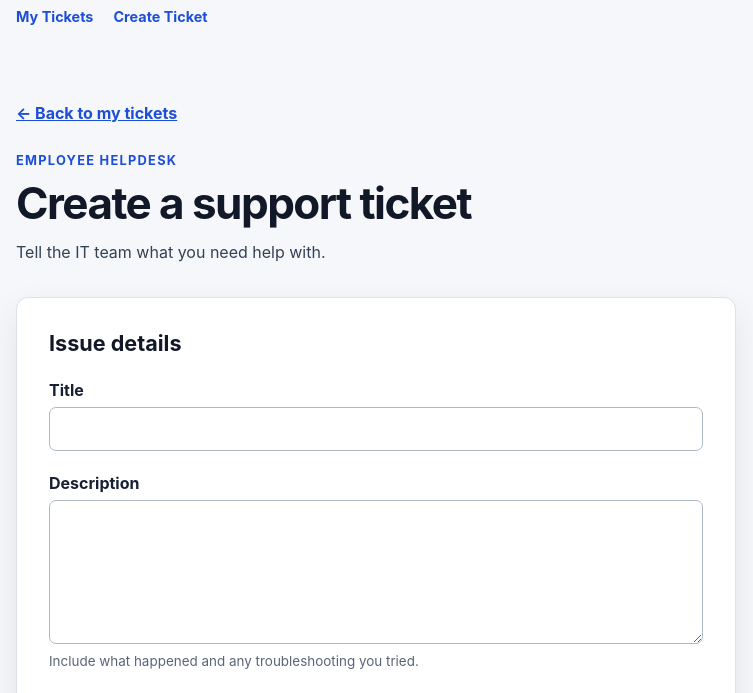
employee ticket creation › displays an API error and preserves form values
Type "VPN unavailable" into the field labelled "Title" at (376, 430), box [49,408,703,452]
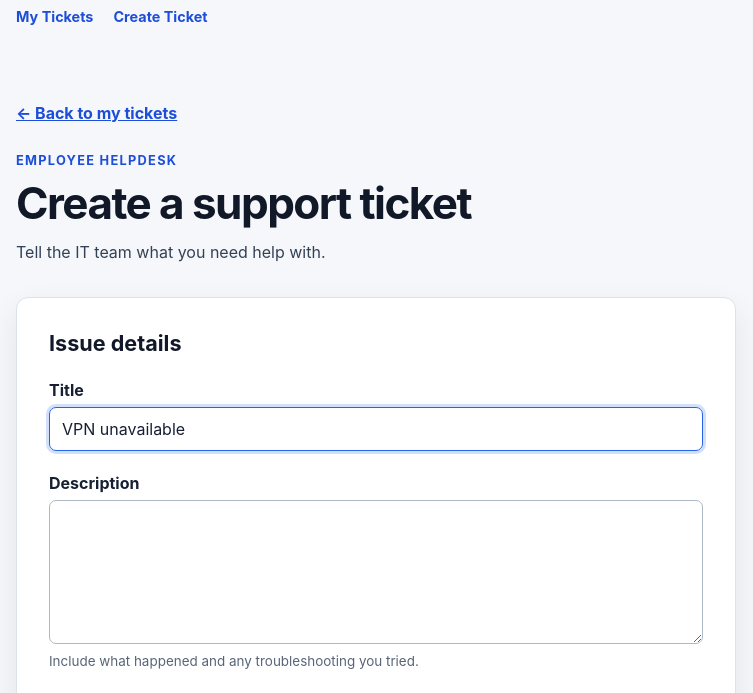
Type "The VPN client times out." into the text box labelled "Description" at (376, 572), box [49,500,703,644]
(page scrolled)
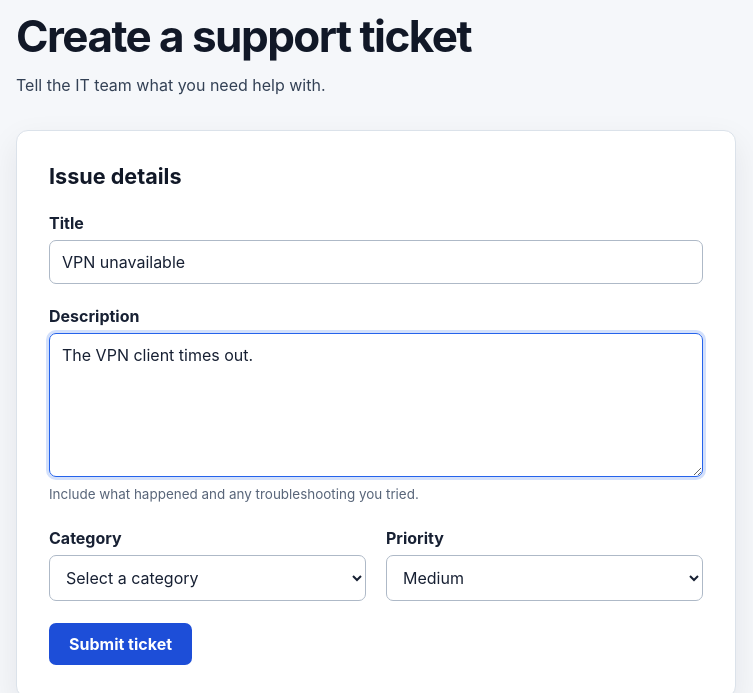
Select "Network" in the dropdown labelled "Category" at (208, 578), box [49,555,366,601]
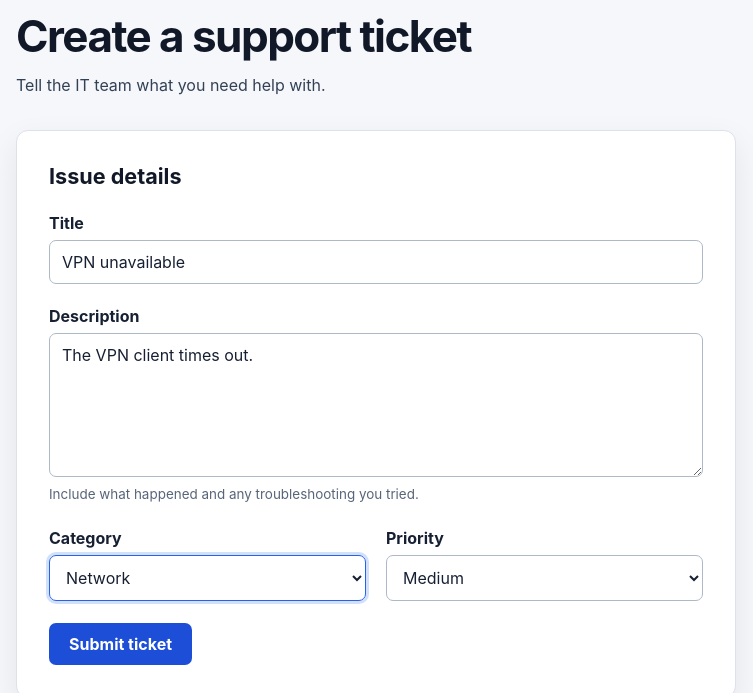
Select "High" in the dropdown labelled "Priority" at (544, 578), box [386,555,703,601]
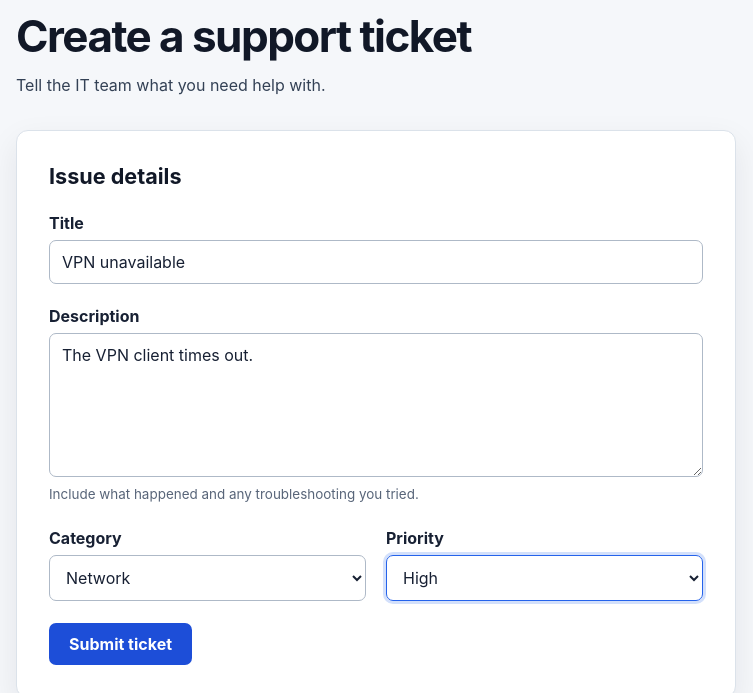
Click the button "Submit ticket" at (120, 644), box [49,623,192,665]
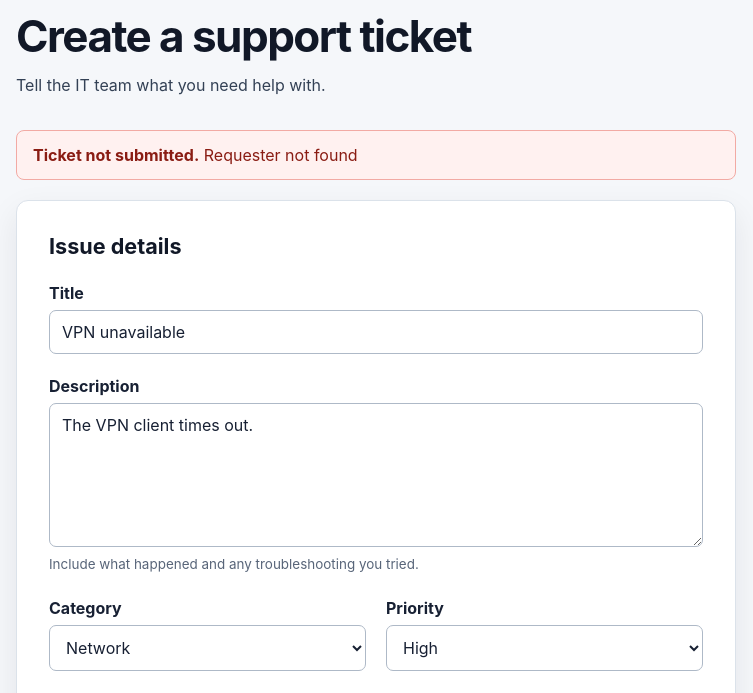
Result: the message shows "Requester not found" at [204,146,358,166]
